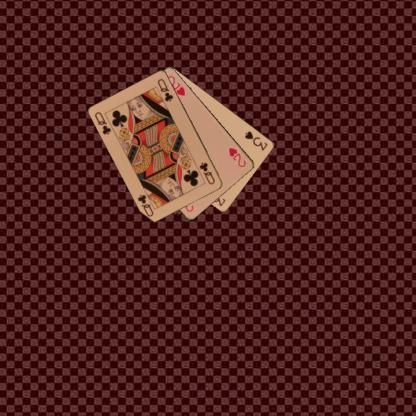2h: (226, 144, 247, 169)
3s: (242, 128, 269, 152)
Qc: (92, 109, 113, 136), (197, 160, 216, 186)
